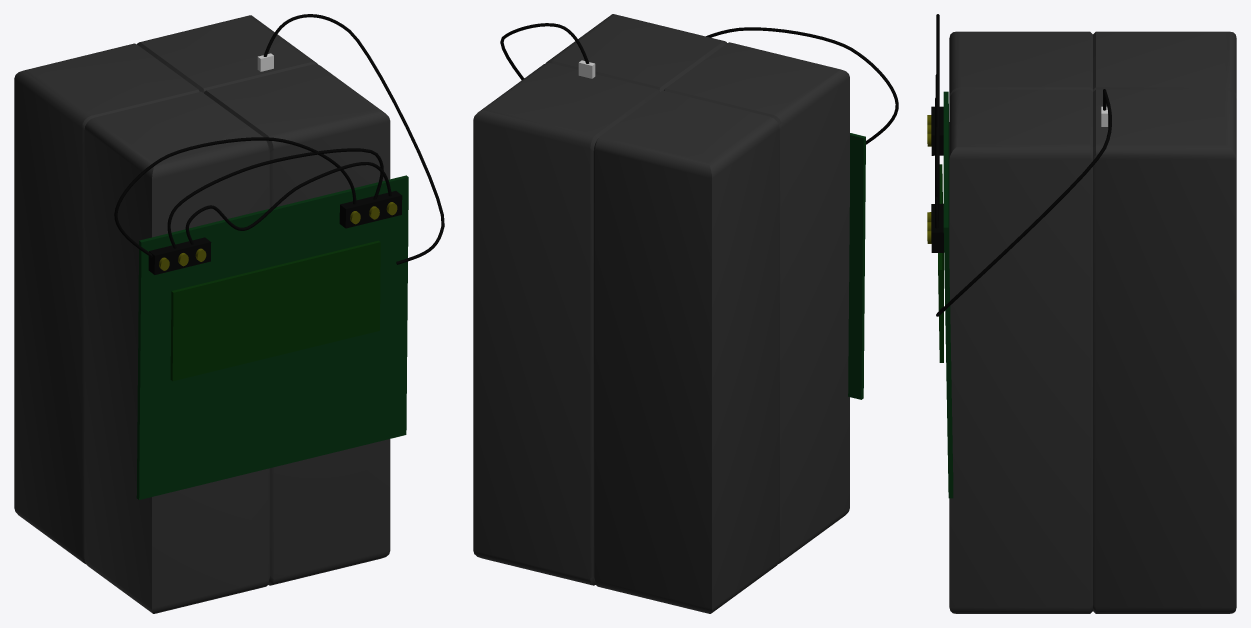
The model's file is Bomba Easy.fbx.
3 renders of one model, left to right at view 1: azimuth 30°, elevation 25°; view 2: azimuth 150°, elevation 25°; view 3: azimuth 270°, elevation 25°, orthographic. The views are drawn at different scales.
Visible parts, largest first — view 1: Cube, Mesh; view 2: Cube, Mesh; view 3: Cube, Mesh.
Part boxes in pixels (x1,y1,x2,y2): Cube: [14, 14, 444, 613]; Mesh: [136, 175, 408, 499]; Cube: [473, 14, 898, 613]; Mesh: [848, 133, 865, 399]; Cube: [935, 14, 1236, 613]; Mesh: [927, 91, 953, 498].
Size of the model in its own units: 142 by 198 by 108.
